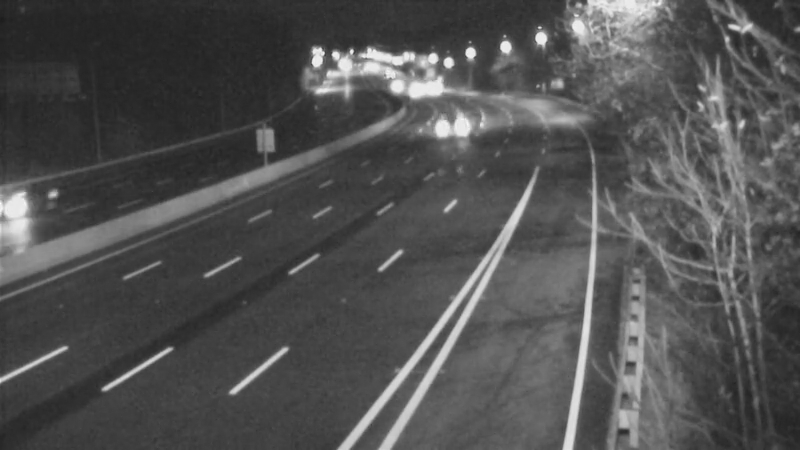vehicle: (1, 167, 66, 247), (365, 55, 415, 105), (388, 63, 438, 113), (405, 64, 455, 114), (394, 69, 444, 119), (432, 94, 482, 144)
